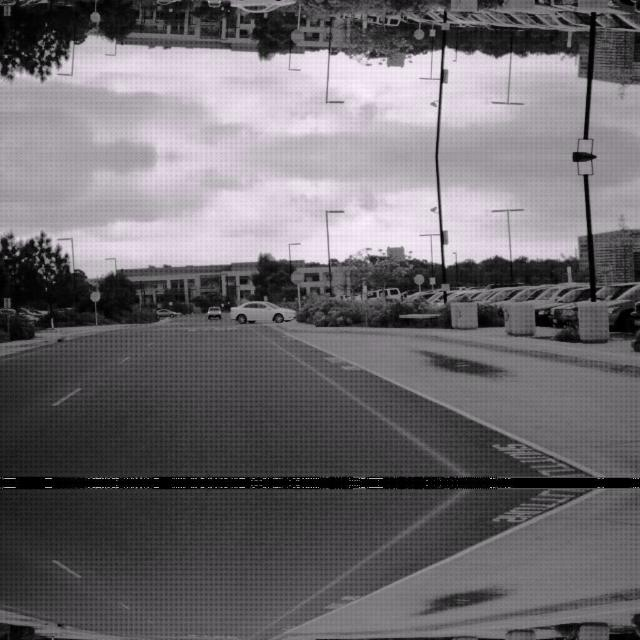stop: (290, 268, 304, 284), (290, 28, 304, 44)
